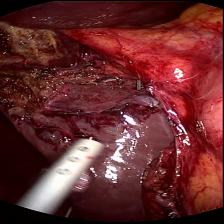Irrigator: (27, 135, 116, 189)
